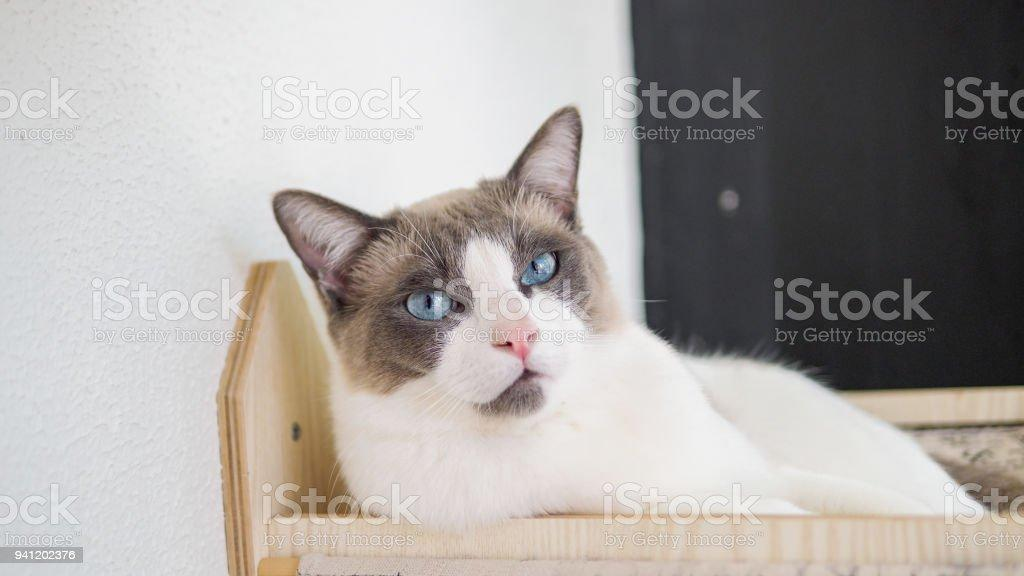ragdoll: (264, 106, 642, 432)
